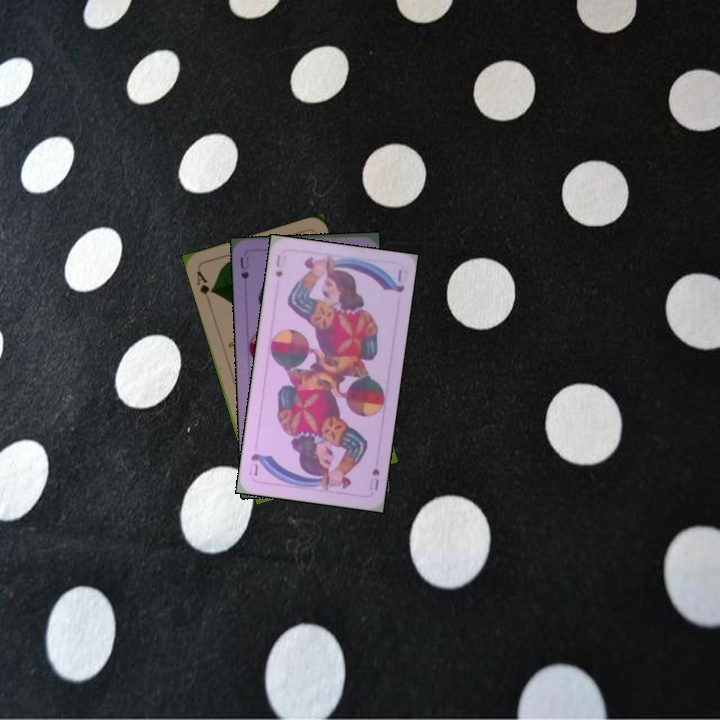GA: (192, 267, 217, 305)
SU: (271, 251, 287, 280), (236, 253, 251, 282), (368, 464, 382, 493)
